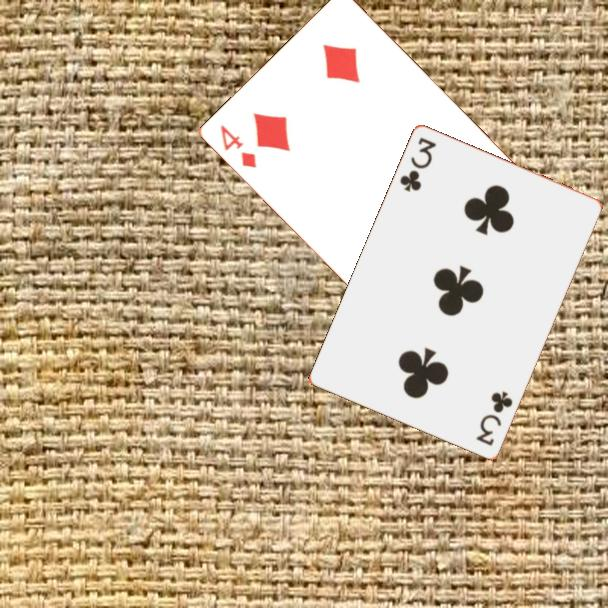c03: (472, 388, 516, 449), (396, 134, 439, 195)
d04: (217, 121, 260, 171)
